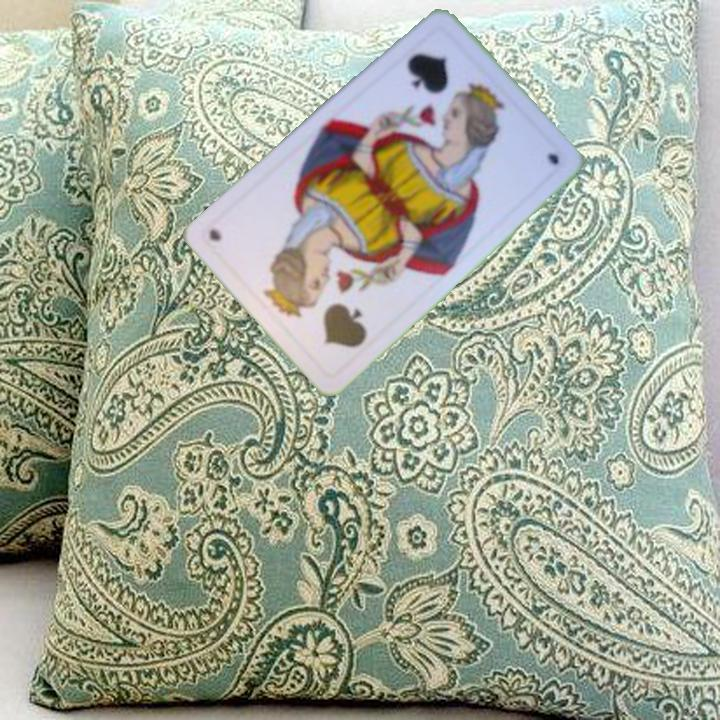s_q.png: (376, 22, 504, 151), (264, 250, 392, 379)
